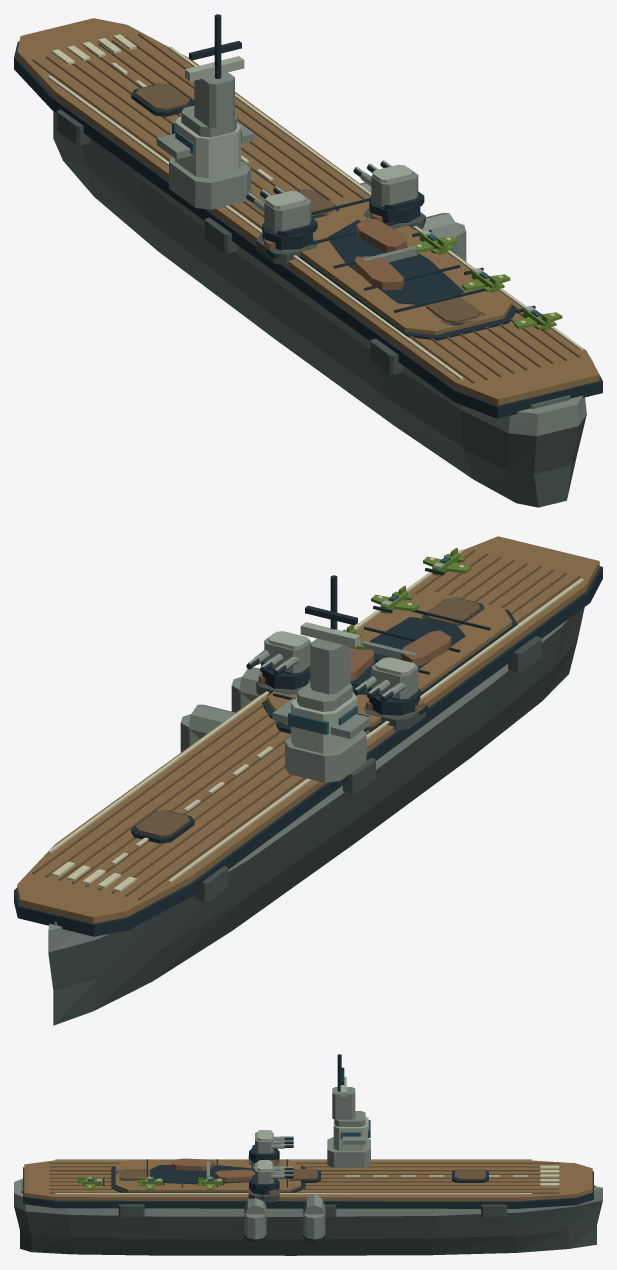
The model's file is historic-hiryu.glb.
3 views of the same model, one above another, from view 1: azimuth 30°, elevation 25°; view 2: azimuth 150°, elevation 25°; view 3: azimuth 270°, elevation 25° (orthographic). The views are drawn at different scales.
Parts seen in each view (by area): view 1: historic-hiryu-historic-hiryu-geometry, historic-hiryu-part_bridge.028-geometry, historic-hiryu-part_flight-deck.008-geometry, historic-hiryu-ruin_flight-deck.007-geometry, historic-hiryu-turret_aa_aa-starboard.028-geometry, historic-hiryu-turret_aa_aa-port.030-geometry, historic-hiryu-aircraft_lift_0.008-geometry, historic-hiryu-historic_funnel_1.015-geometry, historic-hiryu-aircraft_lift_2.007-geometry, historic-hiryu-parked_aircraft_1.008-geometry, historic-hiryu-parked_aircraft_0.008-geometry, historic-hiryu-parked_aircraft_2.008-geometry; view 2: historic-hiryu-historic-hiryu-geometry, historic-hiryu-part_bridge.028-geometry, historic-hiryu-part_flight-deck.008-geometry, historic-hiryu-ruin_flight-deck.007-geometry, historic-hiryu-turret_aa_aa-port.030-geometry, historic-hiryu-turret_aa_aa-starboard.028-geometry, historic-hiryu-aircraft_lift_0.008-geometry, historic-hiryu-historic_funnel_0.029-geometry, historic-hiryu-aircraft_lift_2.007-geometry, historic-hiryu-historic_funnel_1.015-geometry, historic-hiryu-parked_aircraft_0.008-geometry, historic-hiryu-parked_aircraft_1.008-geometry; view 3: historic-hiryu-historic-hiryu-geometry, historic-hiryu-part_bridge.028-geometry, historic-hiryu-part_flight-deck.008-geometry, historic-hiryu-ruin_flight-deck.007-geometry, historic-hiryu-turret_aa_aa-starboard.028-geometry, historic-hiryu-historic_funnel_0.029-geometry, historic-hiryu-turret_aa_aa-port.030-geometry, historic-hiryu-historic_funnel_1.015-geometry, historic-hiryu-aircraft_lift_0.008-geometry, historic-hiryu-aircraft_lift_1.008-geometry, historic-hiryu-aircraft_lift_2.007-geometry.
Part boxes in pixels (bbox=[...]): historic-hiryu-historic-hiryu-geometry: bbox=[14, 18, 602, 507]; historic-hiryu-part_bridge.028-geometry: bbox=[156, 14, 254, 209]; historic-hiryu-part_flight-deck.008-geometry: bbox=[262, 197, 517, 340]; historic-hiryu-ruin_flight-deck.007-geometry: bbox=[327, 218, 463, 304]; historic-hiryu-turret_aa_aa-starboard.028-geometry: bbox=[353, 160, 424, 223]; historic-hiryu-turret_aa_aa-port.030-geometry: bbox=[246, 186, 317, 250]; historic-hiryu-aircraft_lift_0.008-geometry: bbox=[131, 83, 194, 116]; historic-hiryu-historic_funnel_1.015-geometry: bbox=[422, 213, 466, 261]; historic-hiryu-aircraft_lift_2.007-geometry: bbox=[426, 297, 484, 325]; historic-hiryu-parked_aircraft_1.008-geometry: bbox=[462, 267, 510, 292]; historic-hiryu-parked_aircraft_0.008-geometry: bbox=[514, 305, 562, 330]; historic-hiryu-parked_aircraft_2.008-geometry: bbox=[410, 229, 458, 254]; historic-hiryu-historic-hiryu-geometry: bbox=[14, 536, 602, 1025]; historic-hiryu-part_bridge.028-geometry: bbox=[272, 575, 370, 782]; historic-hiryu-part_flight-deck.008-geometry: bbox=[262, 592, 517, 731]; historic-hiryu-ruin_flight-deck.007-geometry: bbox=[350, 617, 465, 694]; historic-hiryu-turret_aa_aa-port.030-geometry: bbox=[353, 657, 420, 715]; historic-hiryu-turret_aa_aa-starboard.028-geometry: bbox=[246, 631, 311, 689]; historic-hiryu-aircraft_lift_0.008-geometry: bbox=[131, 810, 194, 843]; historic-hiryu-historic_funnel_0.029-geometry: bbox=[180, 704, 235, 752]; historic-hiryu-aircraft_lift_2.007-geometry: bbox=[422, 597, 484, 625]; historic-hiryu-historic_funnel_1.015-geometry: bbox=[231, 667, 261, 712]; historic-hiryu-parked_aircraft_0.008-geometry: bbox=[423, 548, 471, 575]; historic-hiryu-parked_aircraft_1.008-geometry: bbox=[371, 585, 419, 613]; historic-hiryu-historic-hiryu-geometry: bbox=[14, 1159, 602, 1255]; historic-hiryu-part_bridge.028-geometry: bbox=[327, 1054, 370, 1167]; historic-hiryu-part_flight-deck.008-geometry: bbox=[111, 1159, 305, 1192]; historic-hiryu-ruin_flight-deck.007-geometry: bbox=[149, 1158, 254, 1184]; historic-hiryu-turret_aa_aa-starboard.028-geometry: bbox=[249, 1160, 293, 1194]; historic-hiryu-historic_funnel_0.029-geometry: bbox=[303, 1194, 325, 1241]; historic-hiryu-turret_aa_aa-port.030-geometry: bbox=[249, 1130, 293, 1163]; historic-hiryu-historic_funnel_1.015-geometry: bbox=[244, 1198, 266, 1241]; historic-hiryu-aircraft_lift_0.008-geometry: bbox=[452, 1169, 488, 1182]; historic-hiryu-aircraft_lift_1.008-geometry: bbox=[288, 1169, 320, 1182]; historic-hiryu-aircraft_lift_2.007-geometry: bbox=[116, 1169, 150, 1180].
Bounding box in the file's own units: 1.42 × 1.92 × 5.89.
